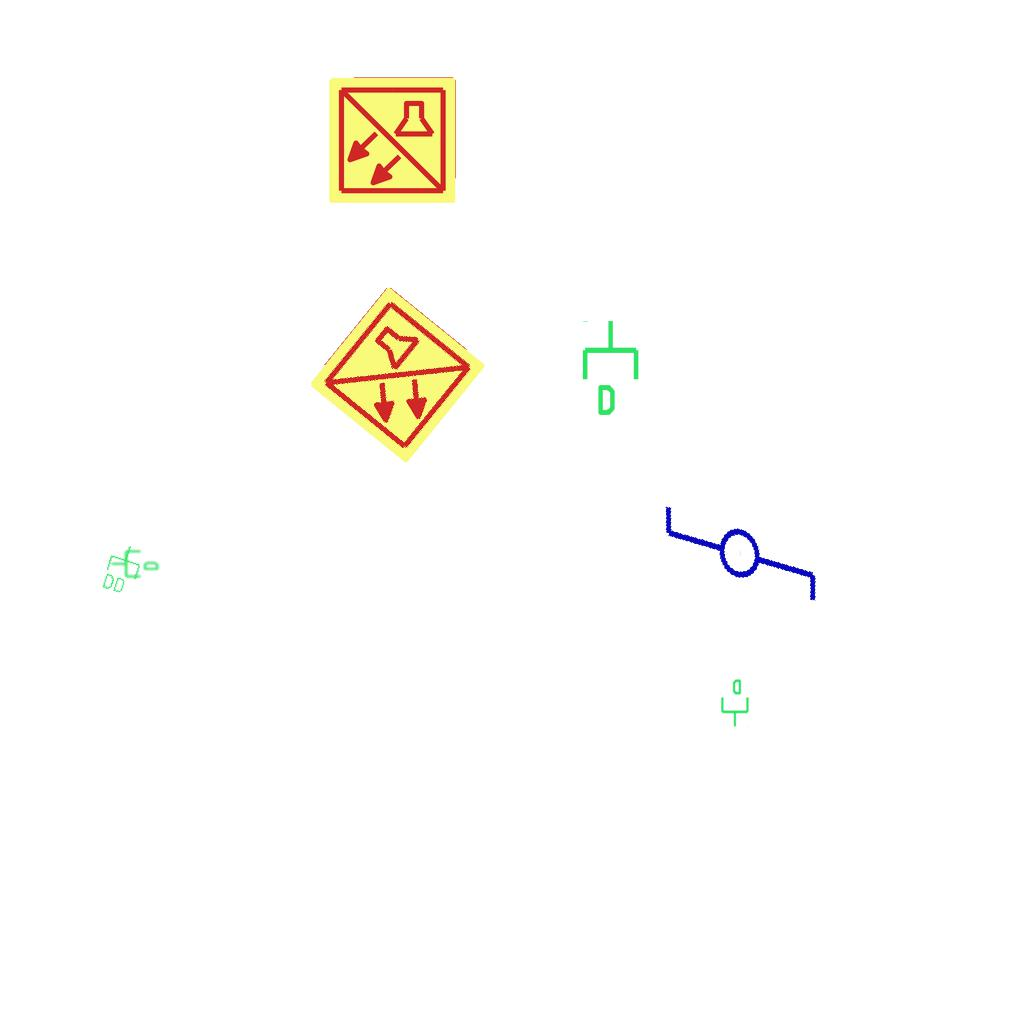Datenanschluss_einfach: (578, 318, 647, 418), (717, 678, 751, 728), (110, 546, 160, 580)
Datenanschluss_zweifach: (98, 539, 147, 599)
OKW_Multisensormelder_(Kombination_optischer_Rauch-Kahlenmonoxid_Waerme-Melder): (304, 282, 490, 468), (326, 74, 458, 206)
Wechselschalter: (648, 449, 831, 641)
